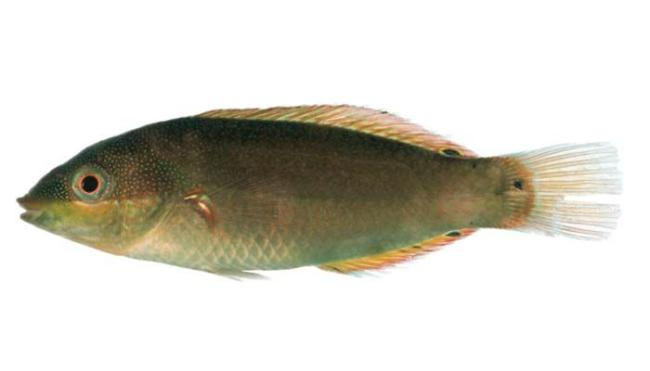fish: (17, 102, 624, 282)
